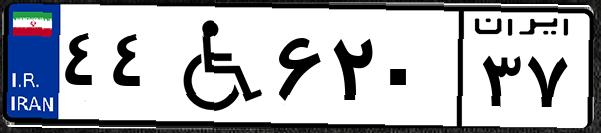0: (385, 28, 445, 110)
2: (330, 28, 385, 110)
3: (475, 38, 525, 113)
4: (57, 26, 110, 100), (110, 28, 158, 98)
6: (270, 28, 330, 110)
7: (525, 38, 570, 115)
ژ (معلولین و جانبازان): (158, 12, 270, 120)
